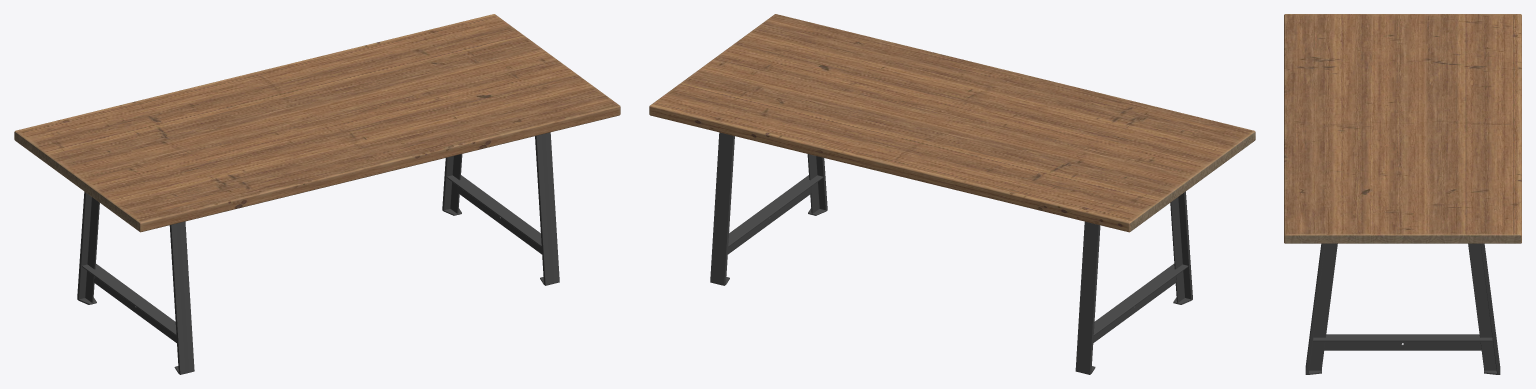
Rendered from abo-B075Z9QB8P.glb.
3 renders of one model, left to right at view 1: azimuth 30°, elevation 25°; view 2: azimuth 150°, elevation 25°; view 3: azimuth 270°, elevation 25°, orthographic. The views are drawn at different scales.
Size of the model in its own units: 2.2 by 0.757 by 1.
1 material, 1 textured.
